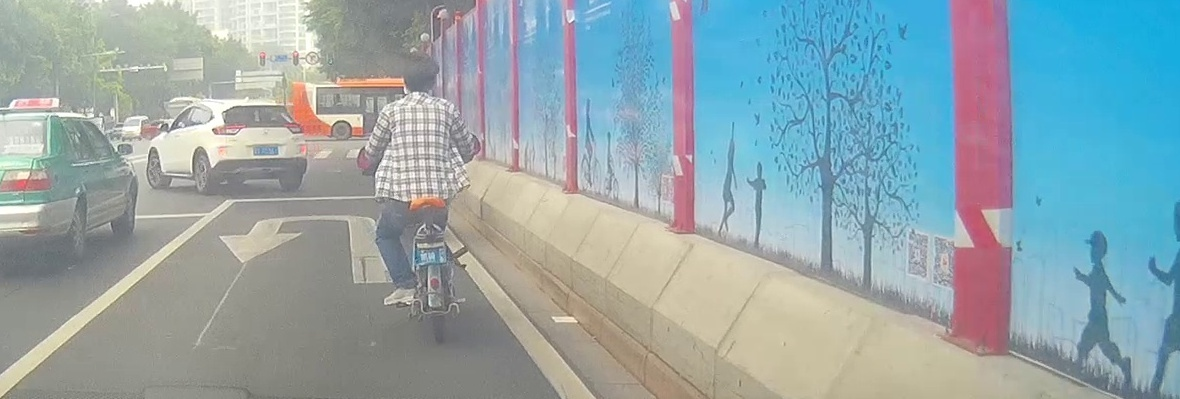L_light: (212, 123, 246, 135)
R_light: (283, 123, 303, 135)
T_light: (255, 105, 270, 110)
day-no: (210, 99, 307, 194)
